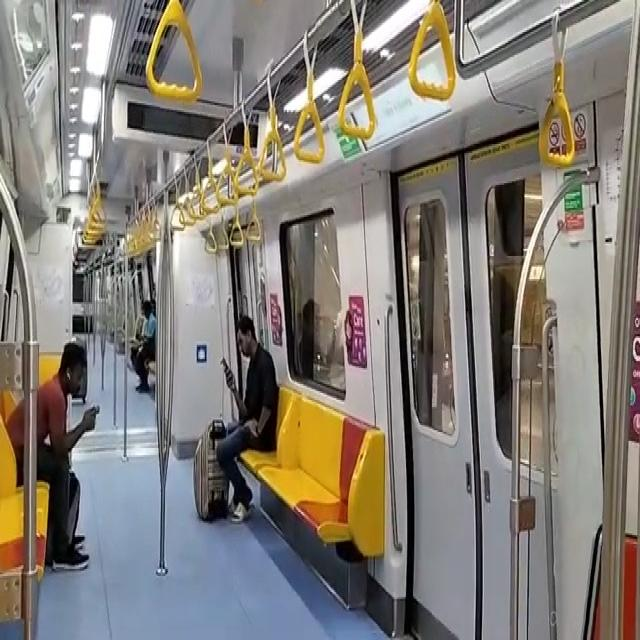bus-door: (384, 153, 556, 640)
